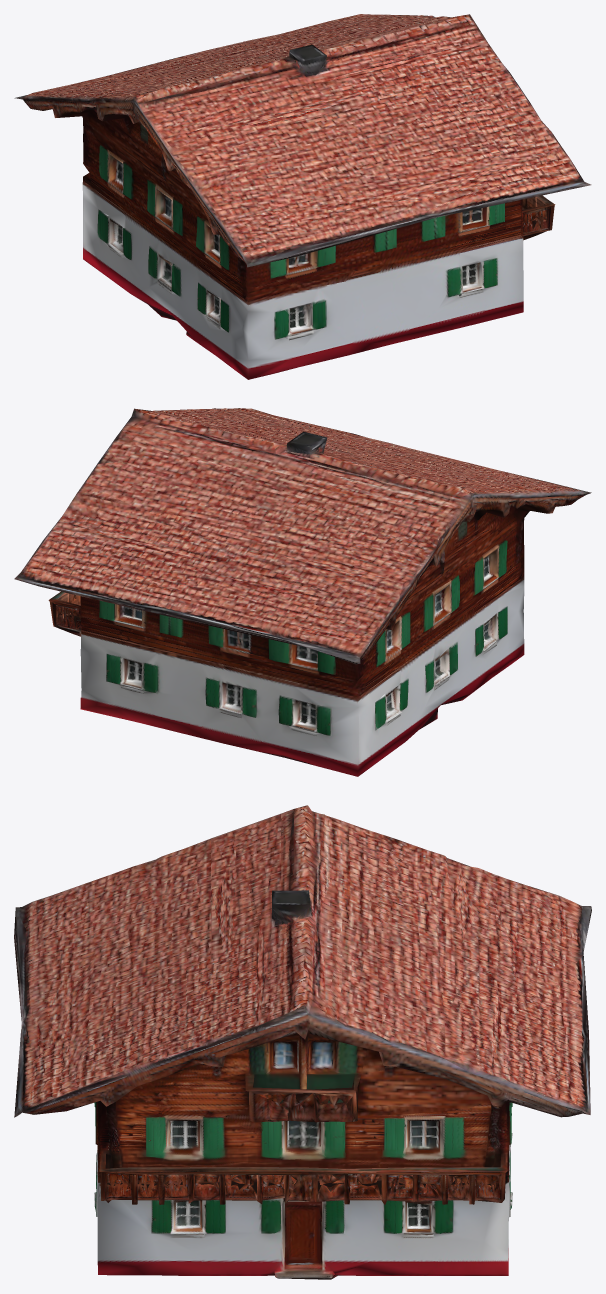
Rendered from farmhouse_paar_tripo.glb.
3 renders of one model, top to bottom at view 1: azimuth 30°, elevation 25°; view 2: azimuth 150°, elevation 25°; view 3: azimuth 270°, elevation 25°, orthographic. The views are drawn at different scales.
Visible parts, largest first — view 1: tripo_node_1cab6cb5-242e-4a4b-b1c3-6e75b5589dbc; view 2: tripo_node_1cab6cb5-242e-4a4b-b1c3-6e75b5589dbc; view 3: tripo_node_1cab6cb5-242e-4a4b-b1c3-6e75b5589dbc.
Boxes of the visible parts, <box> form: tripo_node_1cab6cb5-242e-4a4b-b1c3-6e75b5589dbc: <box>14,14,591,379</box>; tripo_node_1cab6cb5-242e-4a4b-b1c3-6e75b5589dbc: <box>14,408,591,776</box>; tripo_node_1cab6cb5-242e-4a4b-b1c3-6e75b5589dbc: <box>14,805,591,1279</box>.
Bounding box in the file's own units: 0.8397 × 0.5502 × 0.9769.
1 material, 1 textured.
